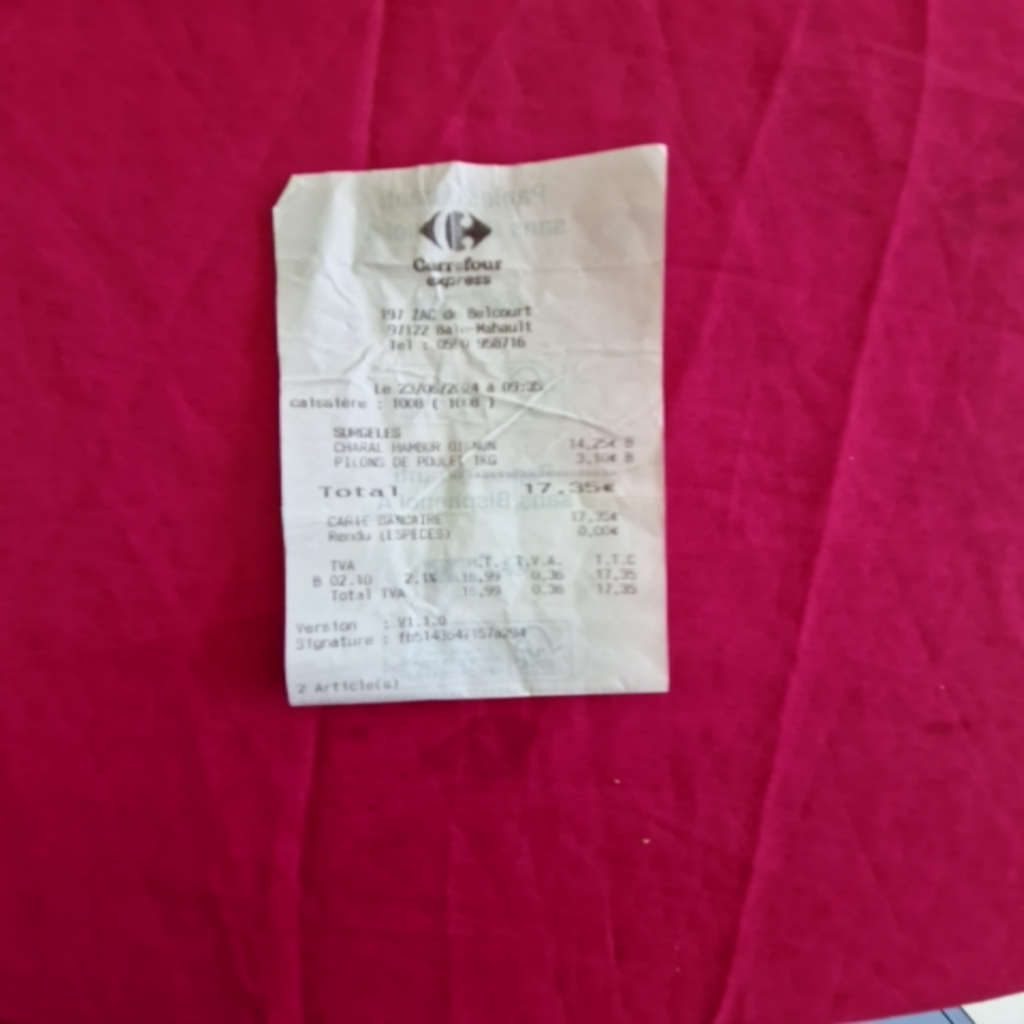recipt: (273, 143, 671, 709)
